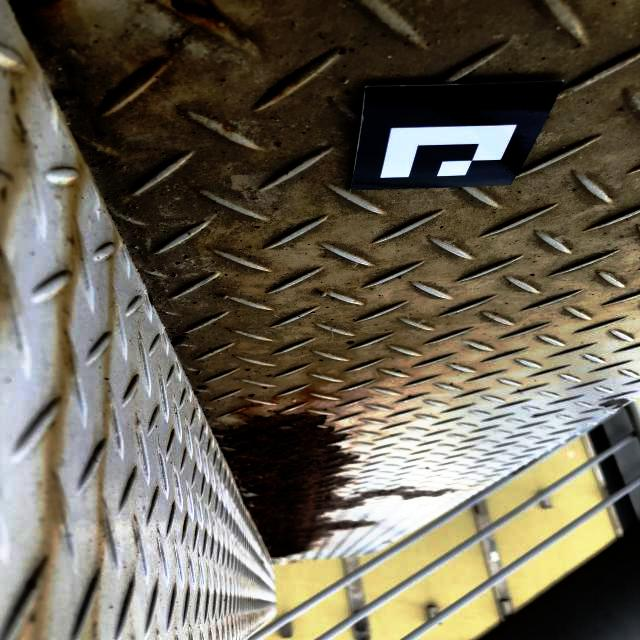Corrosion: (213, 409, 458, 559), (168, 0, 230, 29), (9, 0, 66, 17), (269, 78, 291, 100), (595, 398, 630, 409), (223, 128, 231, 132)
